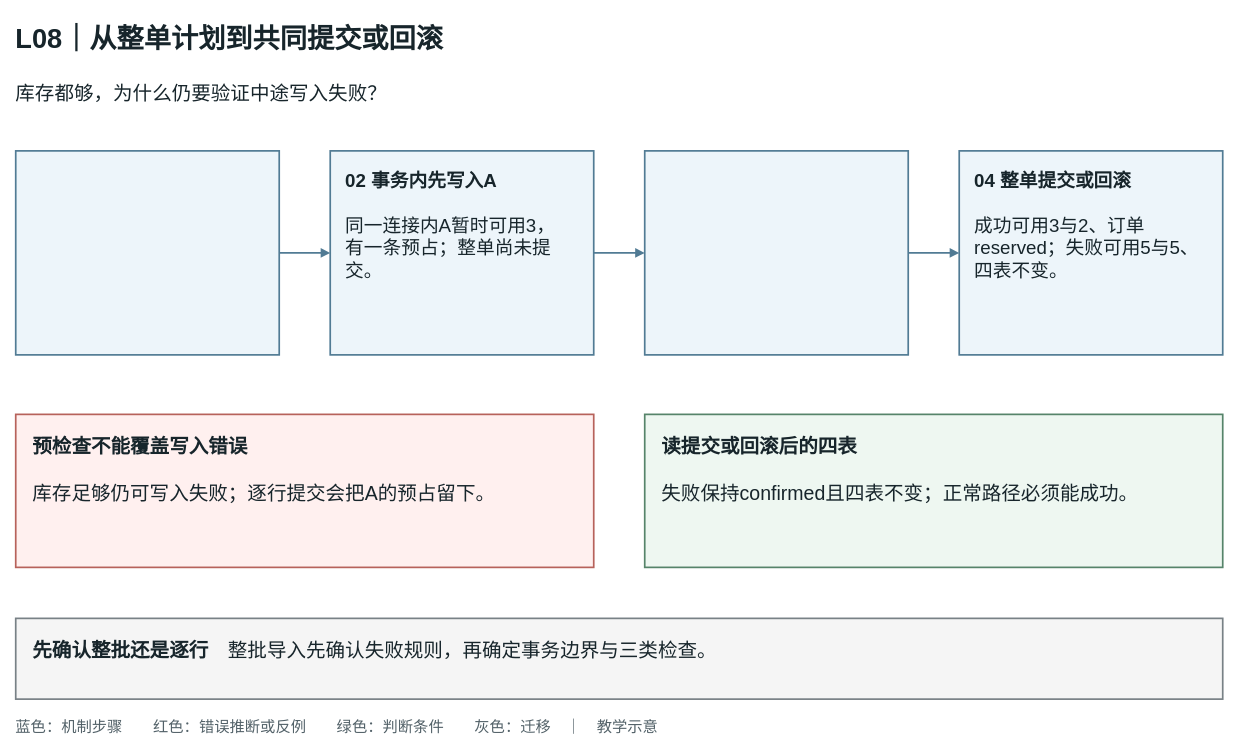
Some shapes in this 1238 by 756 pixel diagram are drawn without their labels. Each missing label, with the box of its shape:
01 先形成完整预占计划 A、B各可用5，订单需2与3； 若B只有2，计划阶段拒绝。: (14, 150, 280, 355)
03 继续B并保留失败 B需3；第二条预占插入故 障必须到达回滚分支。: (643, 150, 909, 355)
